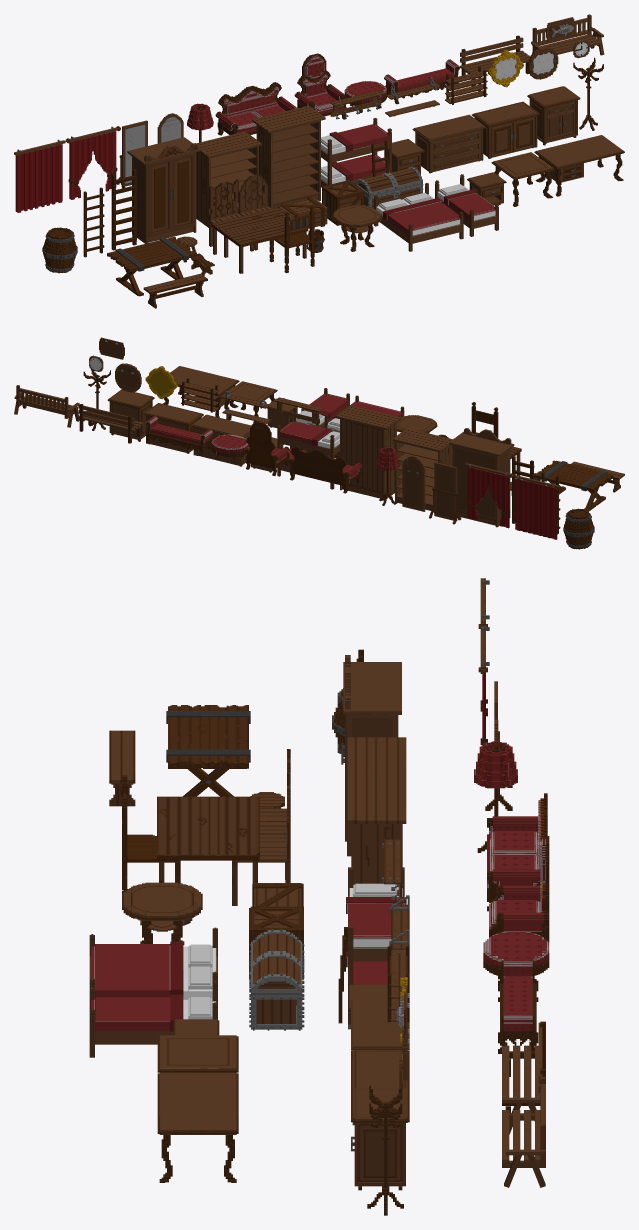
Rendered from Voxel_Props_Pack_-_Interior.glb.
The picture shows the model from 3 angles, top to bottom: view 1: azimuth 30°, elevation 25°; view 2: azimuth 150°, elevation 25°; view 3: azimuth 270°, elevation 25°; orthographic projection. The views are drawn at different scales.
Parts seen in each view (by area): view 1: unnamed (×2); view 2: unnamed (×2); view 3: unnamed (×2).
Part boxes in pixels (left/top/right/bottom): unnamed (×2): left=14, top=14, right=624, bottom=308; unnamed (×2): left=14, top=337, right=624, bottom=549; unnamed (×2): left=89, top=578, right=549, bottom=1215.
Size of the model in its own units: 671 by 122 by 251.
1 material, 1 textured.
